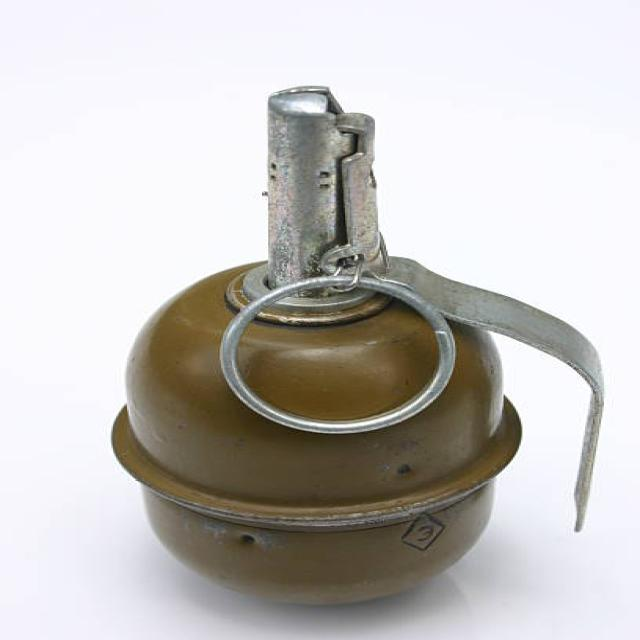grenade: (101, 64, 611, 615)
